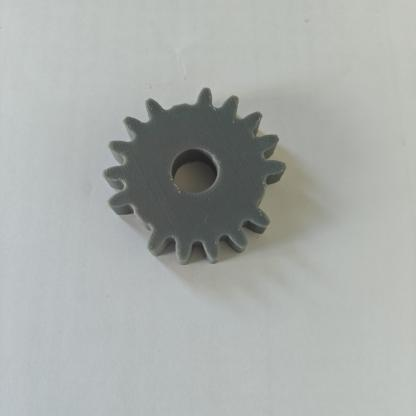defect: (94, 188, 185, 268), (134, 71, 224, 130), (246, 163, 302, 231)
gear: (82, 52, 316, 281)
